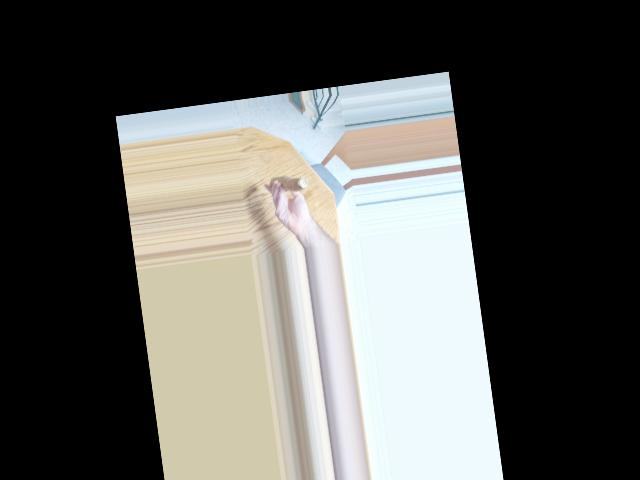sweet_potato: (268, 172, 303, 189)
